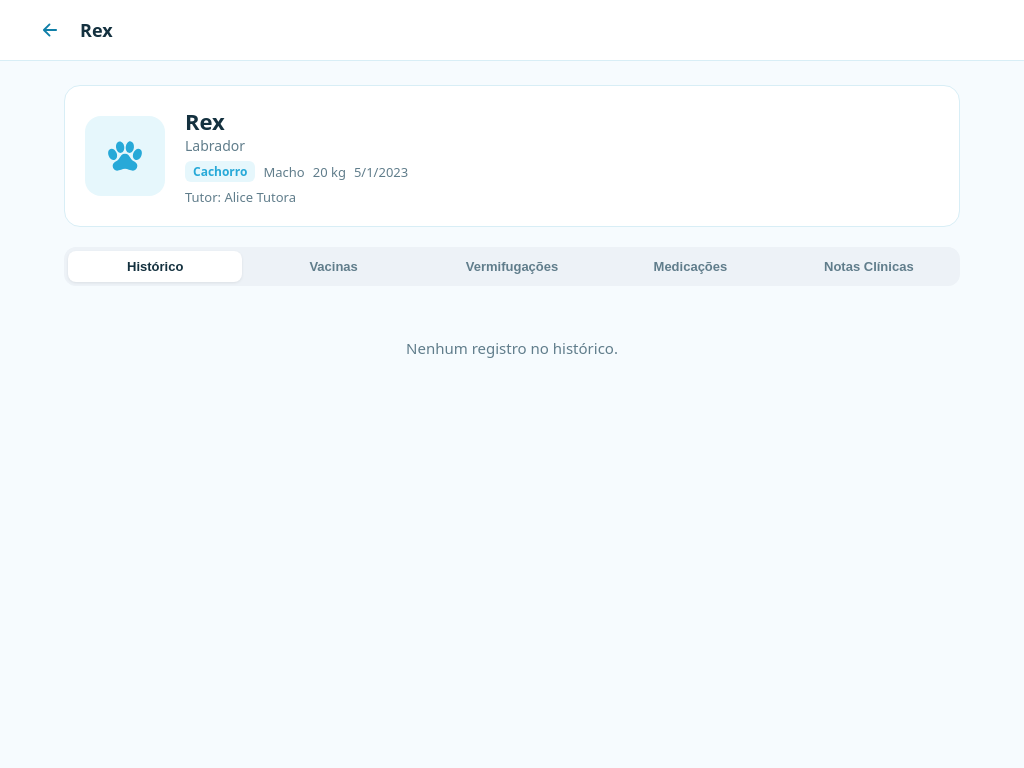
Test: VetPetProfilePage › mostra erro de submissão quando salvar a nota falha
Expected: the heading "Rex" is shown, [185,106,225,136]
Click the button "Notas Clínicas".
click(869, 266)  # box [782,251,956,282]
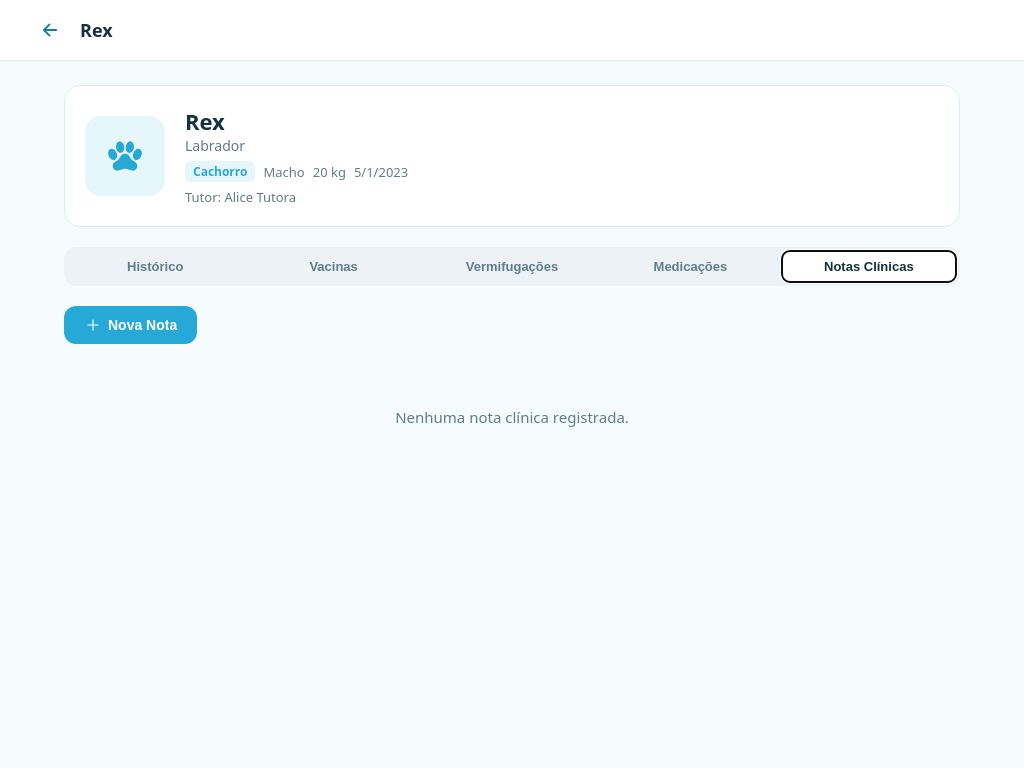
Click the button "Nova Nota".
click(131, 325)  # box [64,306,197,344]
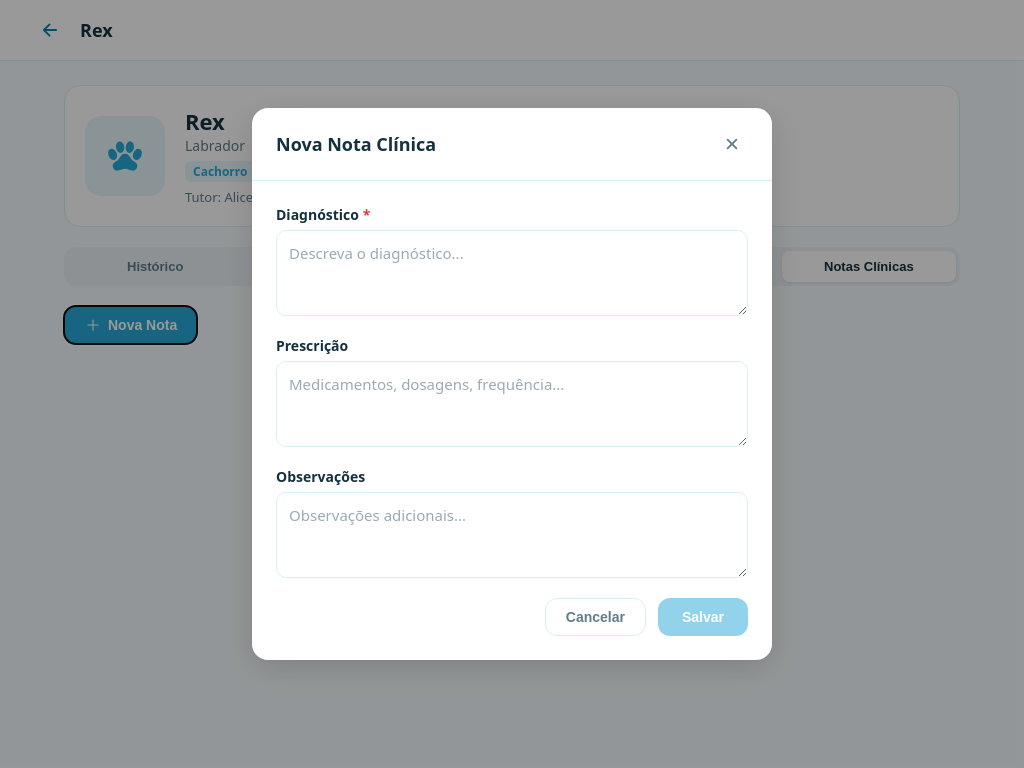
Type "Otite" into the text box labelled "Diagnóstico *".
click(512, 273); type("Otite")  # box [276,230,748,316]
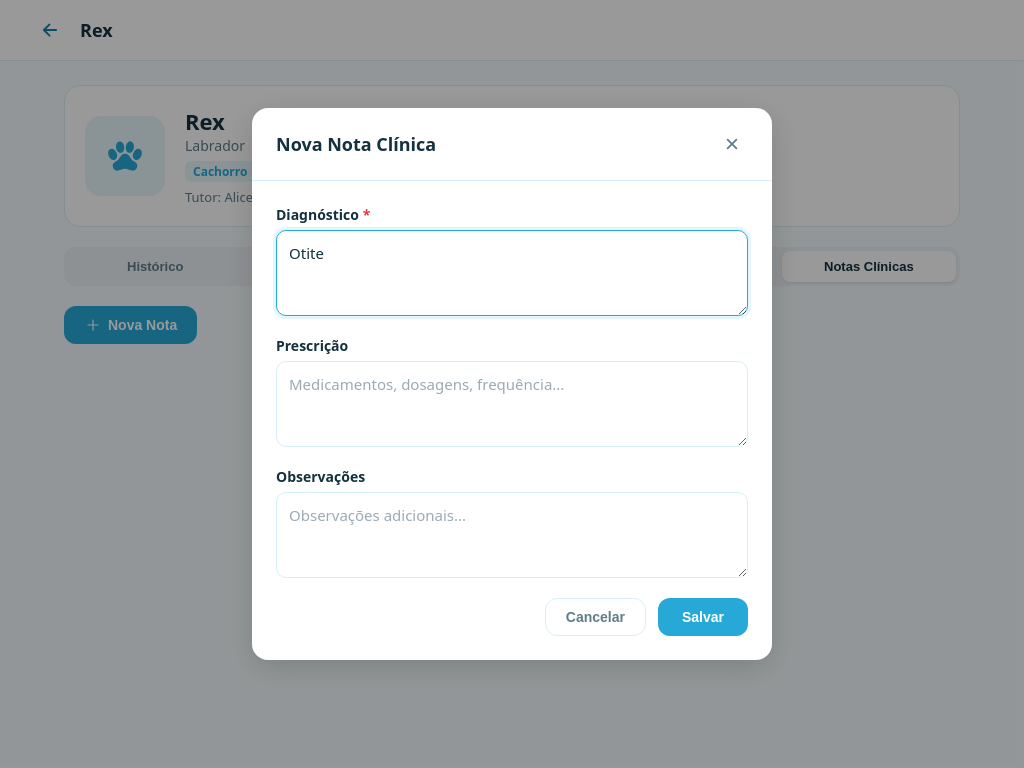
Click the button "Salvar".
click(703, 617)  # box [658,598,748,636]
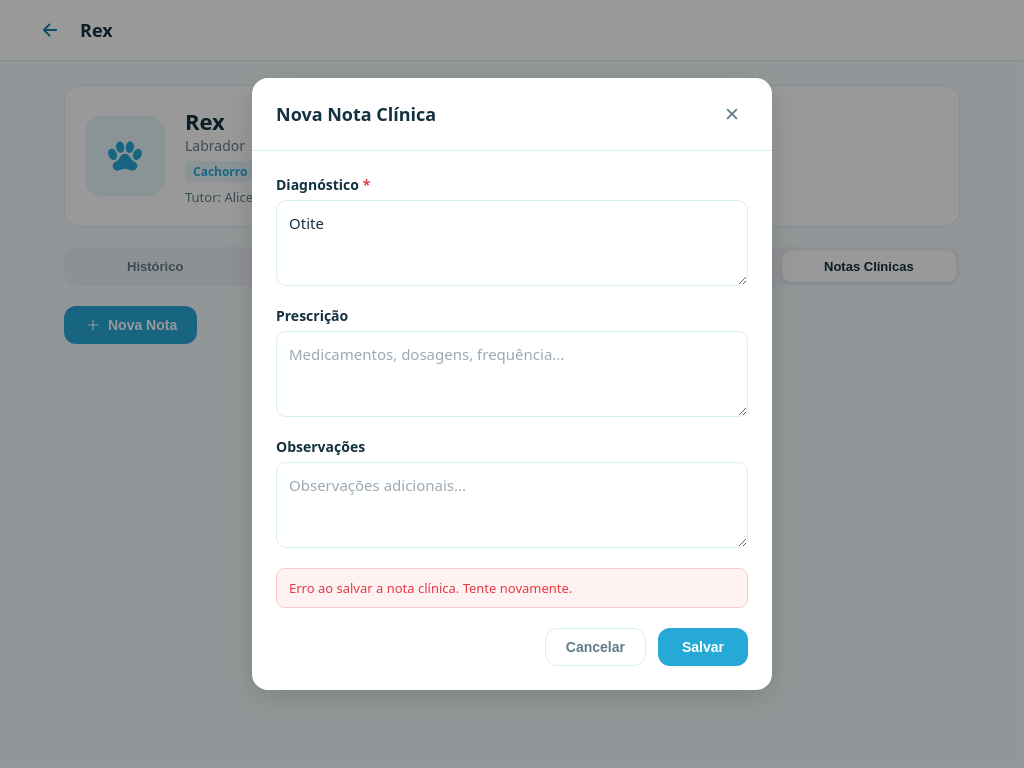
Expected: the text "Erro ao salvar a nota clínica. Tente novamente." is shown, [276,568,748,608]
